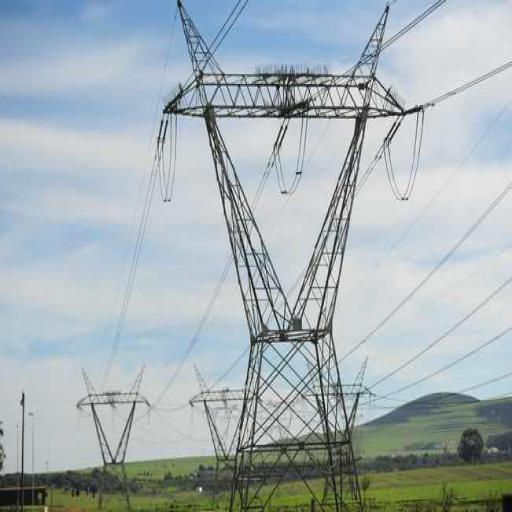wt_5: (266, 394, 300, 458)
wt_6: (163, 0, 406, 505), (302, 356, 378, 510), (76, 365, 150, 511), (191, 362, 259, 511)
